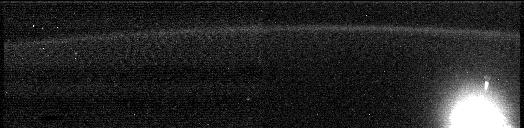positive: (480, 74, 492, 92)
